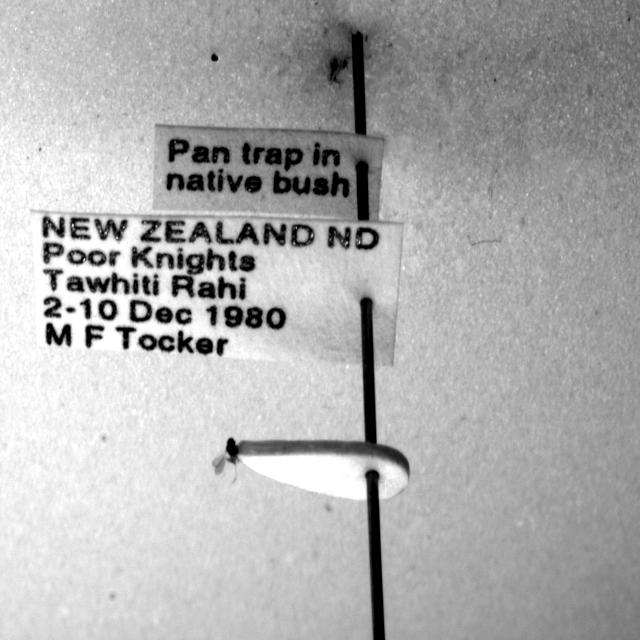typed_label: (31, 212, 402, 364), (154, 126, 384, 221)
